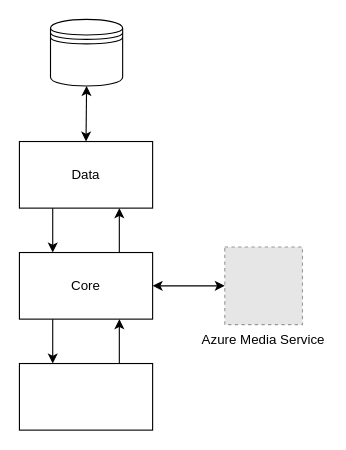
Some shapes in this 346 by 450 pixel diagram are drawn without their labels. Grey dashed boxes stand in for pictures. Each missing label, with the box of its shape:
API: (18, 362, 153, 430)
Azure SQL Server: (49, 18, 123, 86)
